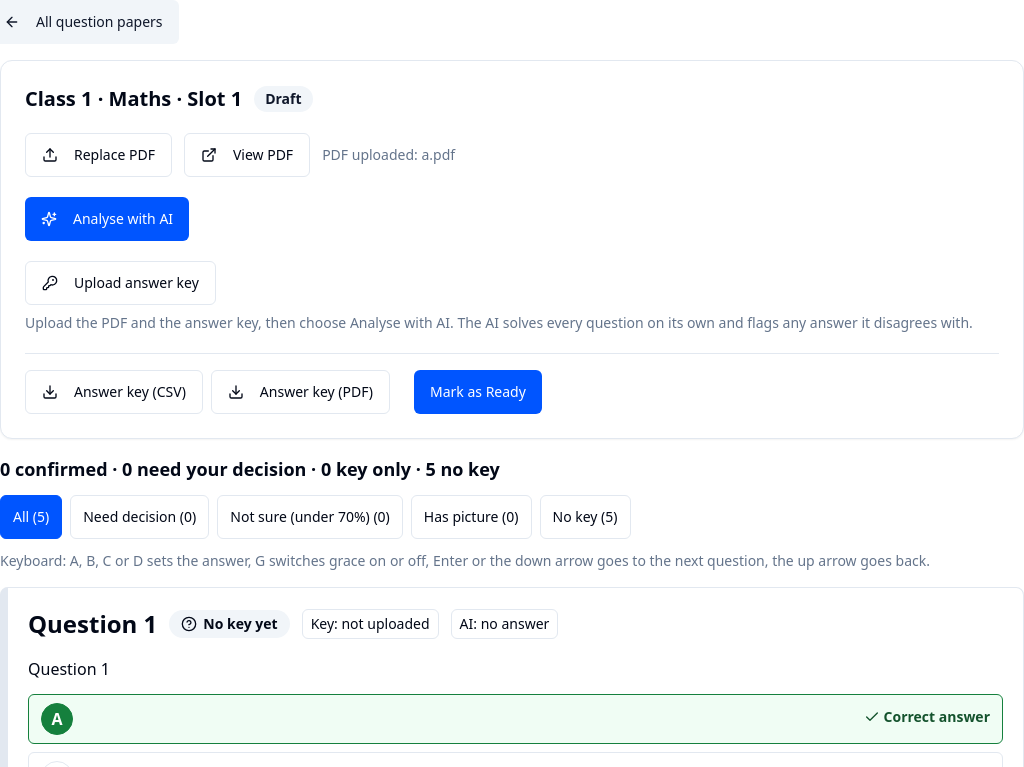
Test: PaperEditor › asks before re-analysing when corrections exist, with Keep my corrections focused
Click the button "Analyse with AI": (107, 219) [25,197,189,241]
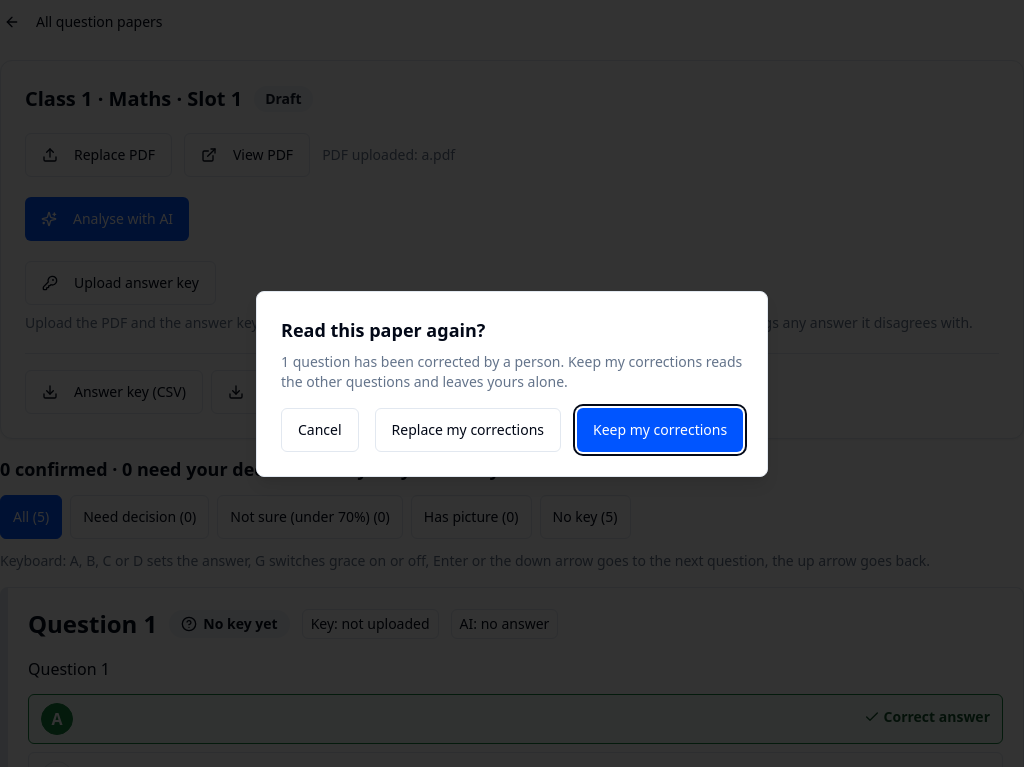
Expected: the text "1 question has been corrected" is shown, [281,352,743,392]
